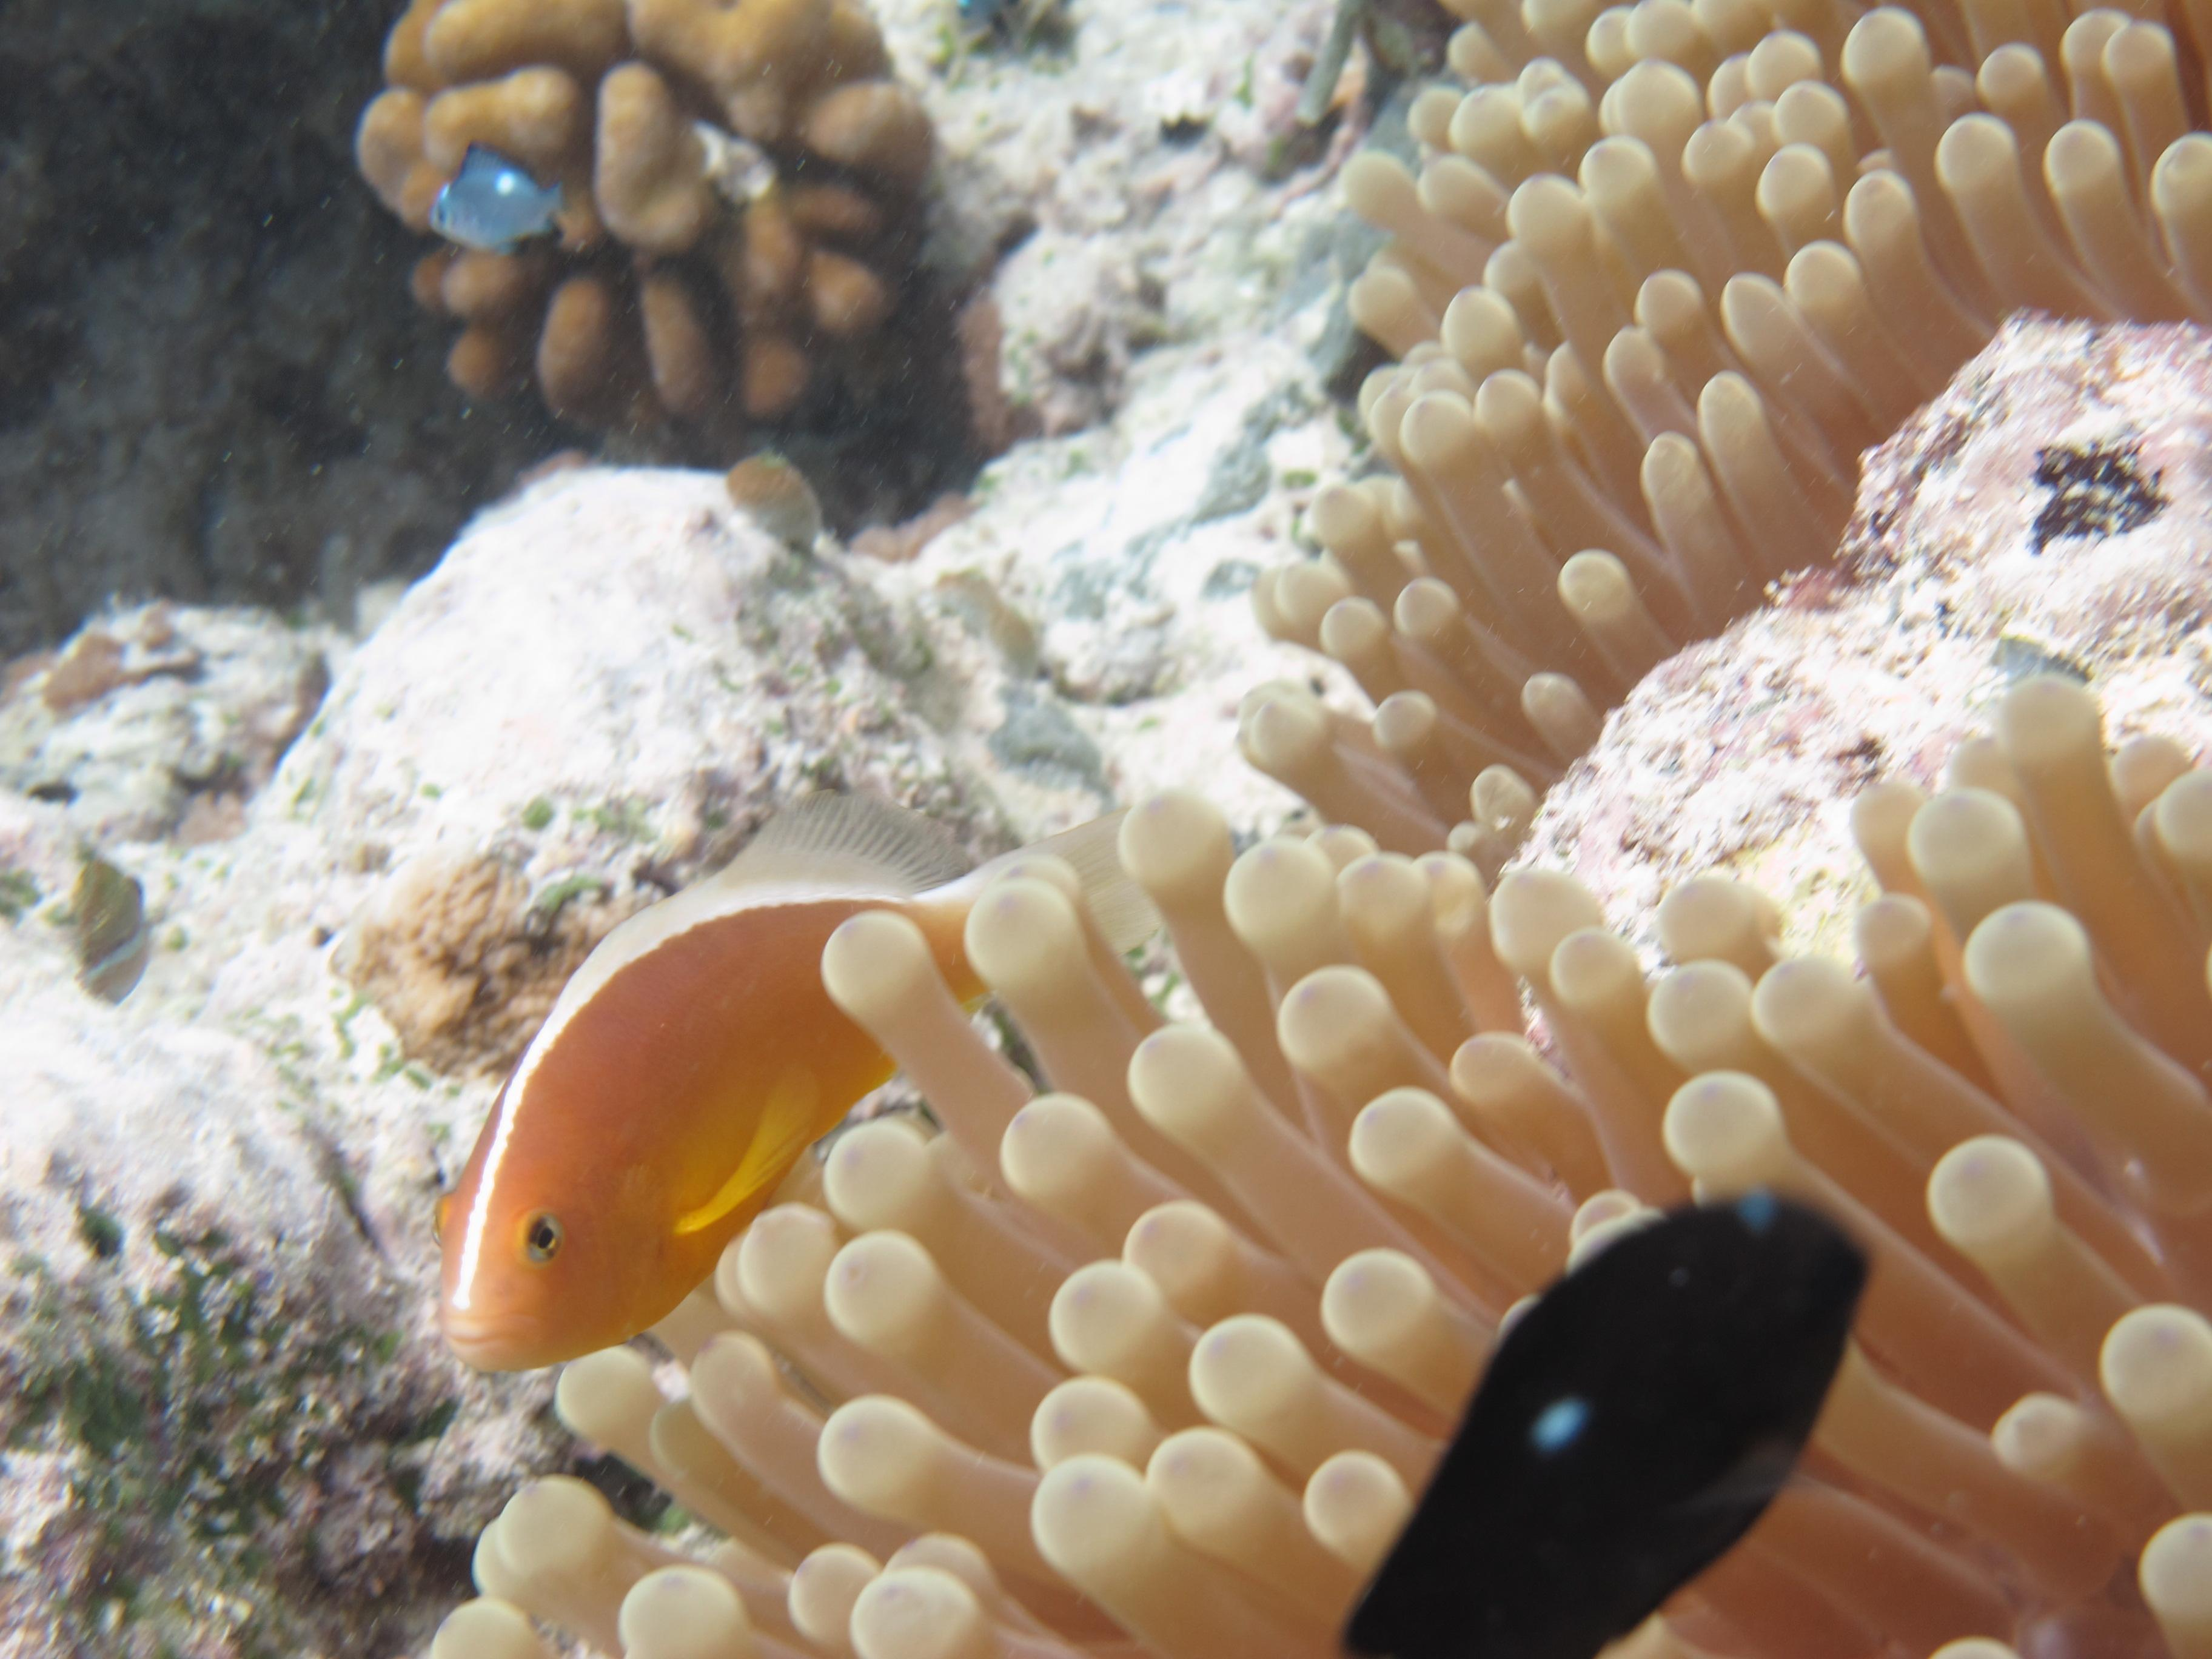Amphiprion akallopsis: (395, 744, 1139, 1429)
